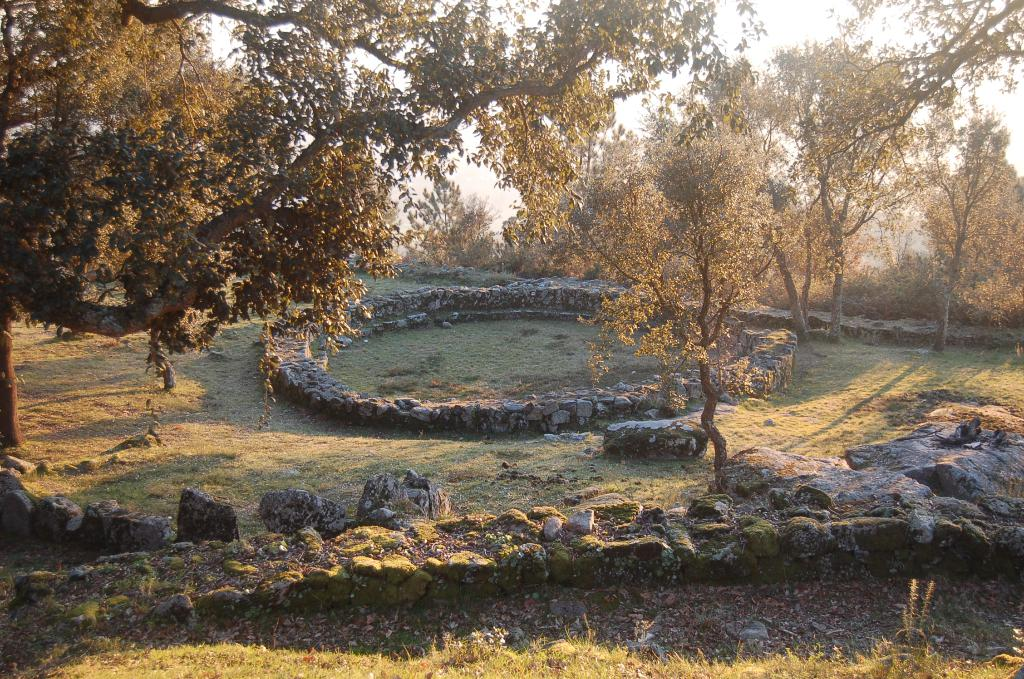Tree: (0, 0, 773, 467), (391, 92, 1023, 338), (744, 43, 1015, 352), (597, 95, 809, 489)
